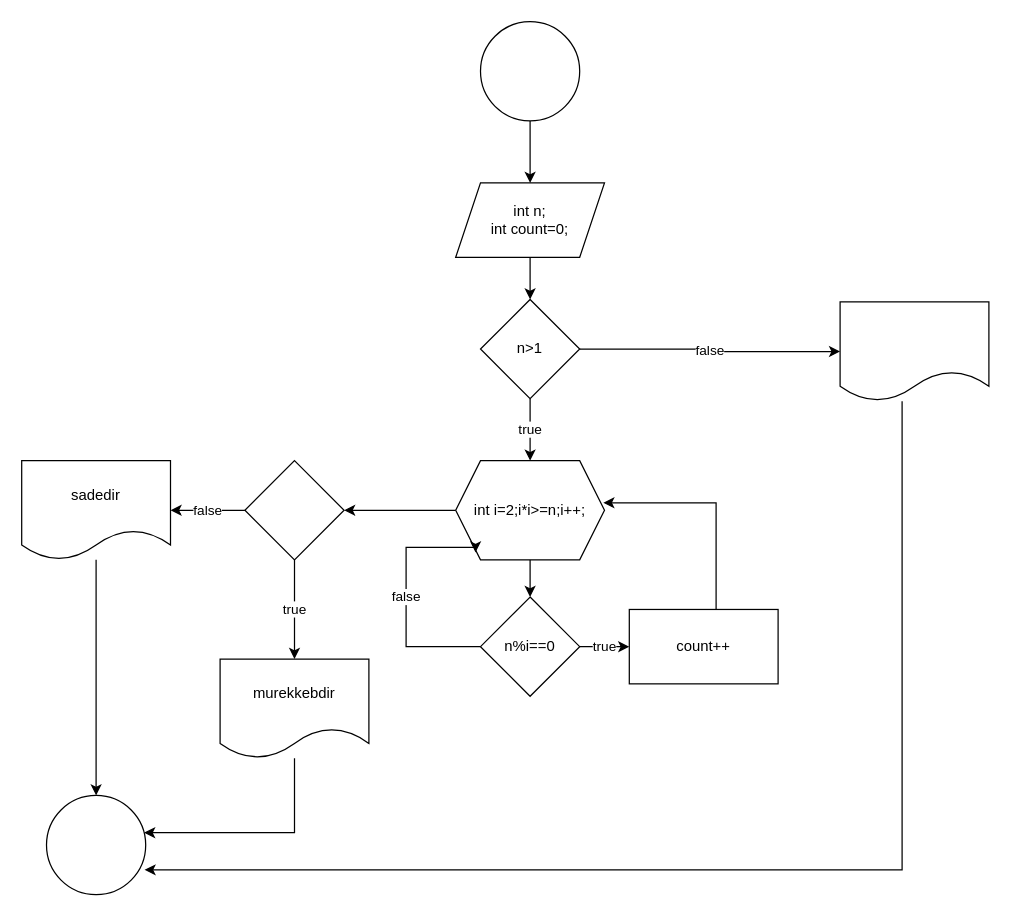
Image size: 1011x916. Some labels were removed from this diagram. Each missing label, with the centre of its shape:
"1den boyuk eded daxil edin" belongs at (914,351).
"count>=1" belongs at (294,509).
"End" belongs at (95,844).
"Start" belongs at (529,70).
